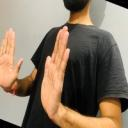hand: (40, 25, 71, 117), (0, 28, 24, 94)
